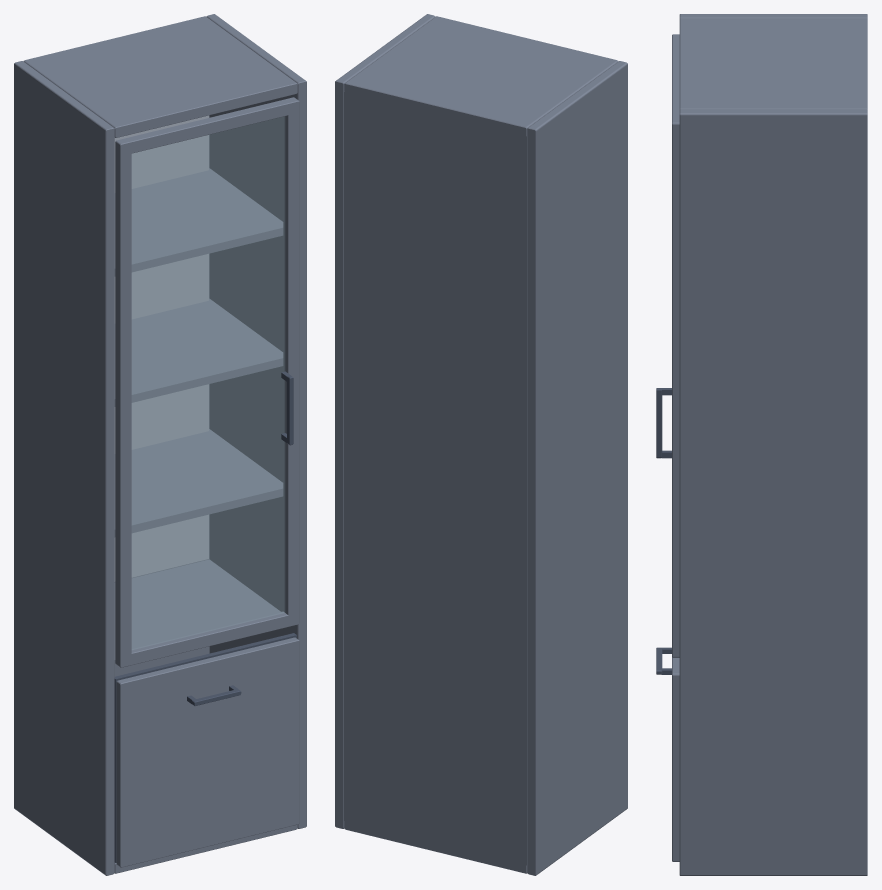
The model's file is single-glass-cabinet-lite.glb.
The picture shows the model from 3 angles, left to right: view 1: azimuth 30°, elevation 25°; view 2: azimuth 150°, elevation 25°; view 3: azimuth 270°, elevation 25°; orthographic projection. The views are drawn at different scales.
Parts seen in each view (by area): view 1: body, glass, soft, dark; view 2: body; view 3: body, dark.
Boxes of the visible parts, bbox=[...] form: body: bbox=[14, 14, 306, 875]; glass: bbox=[132, 116, 284, 649]; soft: bbox=[114, 115, 208, 581]; dark: bbox=[114, 371, 296, 862]; body: bbox=[335, 14, 627, 875]; body: bbox=[672, 14, 867, 875]; dark: bbox=[656, 388, 671, 674].
Size of the model in its own units: 0.48 by 1.7 by 0.427.
